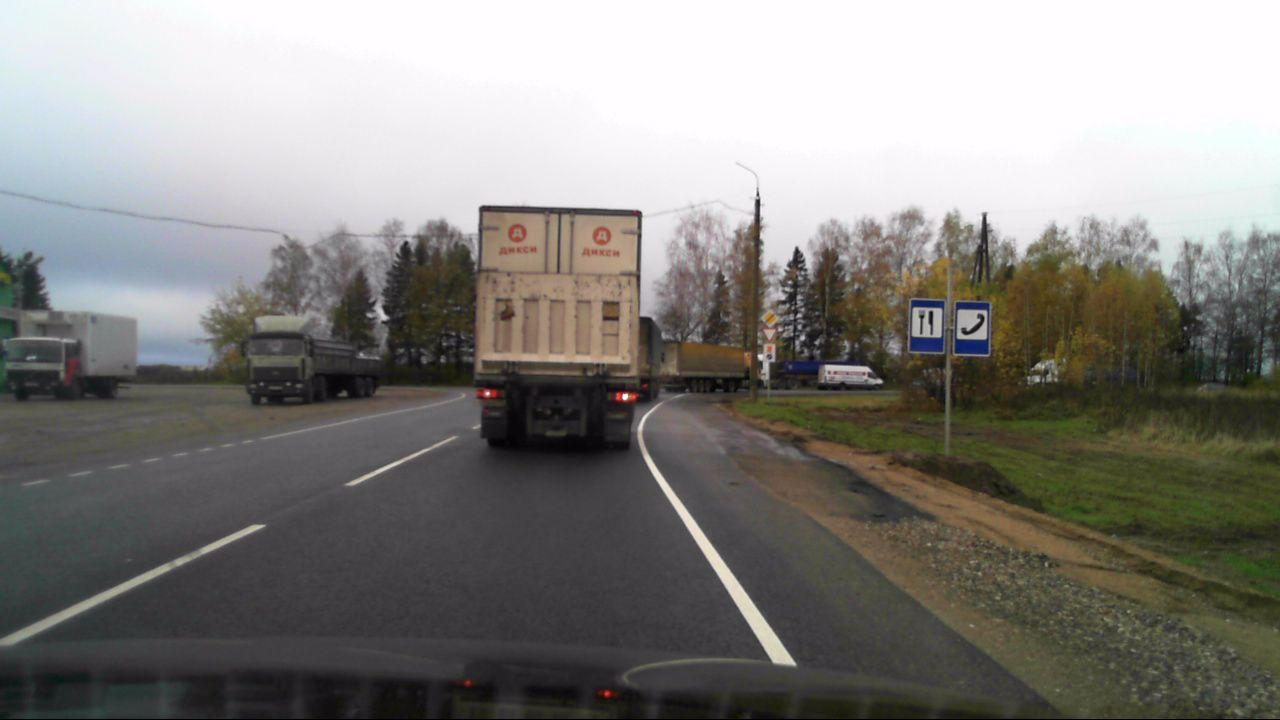2_2: (760, 310, 780, 327)
2_4: (763, 328, 777, 342)
4_8_2: (763, 343, 777, 363)
7_6: (954, 302, 991, 356)
7_7: (910, 299, 947, 353)
